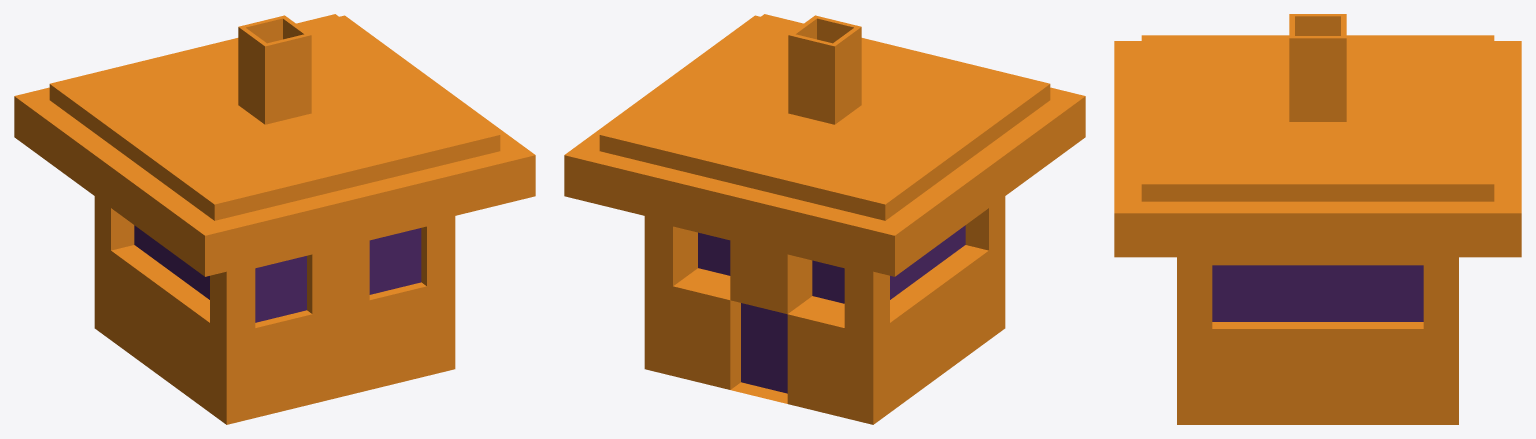
Rendered from Muzeum_2.fbx.
3 views of the same model, side by side, from view 1: azimuth 30°, elevation 25°; view 2: azimuth 150°, elevation 25°; view 3: azimuth 270°, elevation 25° (orthographic). The views are drawn at different scales.
Parts seen in each view (by area): view 1: Cube_001; view 2: Cube_001; view 3: Cube_001.
Boxes of the visible parts, bbox=[...] form: Cube_001: bbox=[14, 14, 535, 424]; Cube_001: bbox=[564, 14, 1085, 424]; Cube_001: bbox=[1114, 14, 1521, 424].
Size of the model in its own units: 34.97 by 32.12 by 34.97.
Materials: 1 (1 with a texture image).
